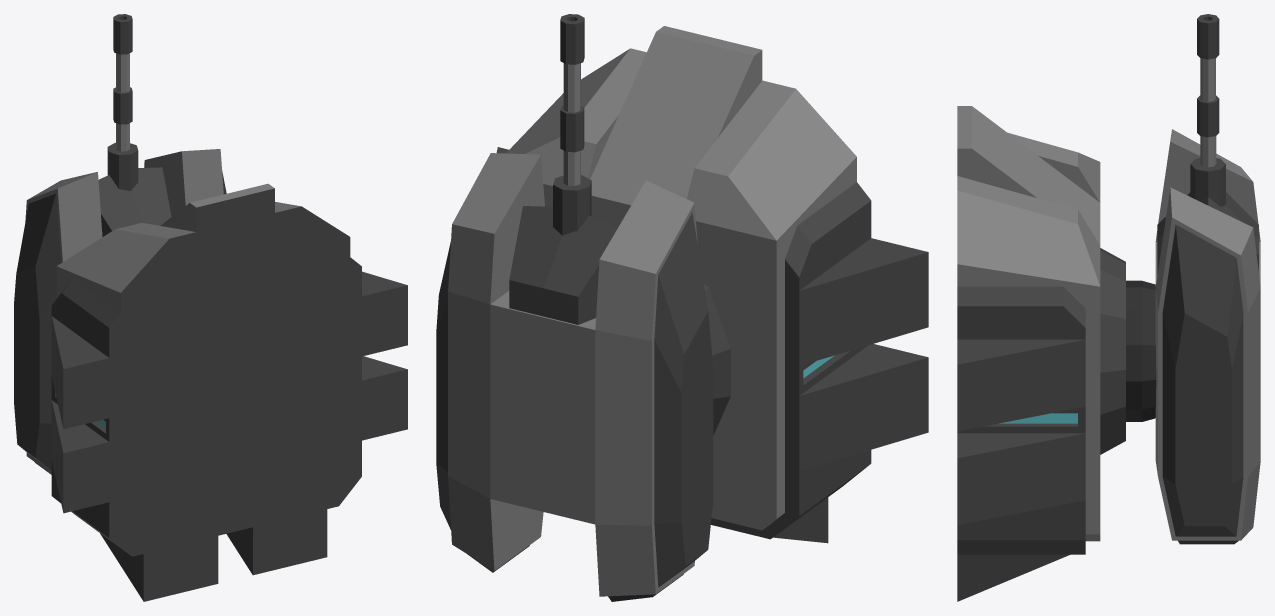
File: TurretMesh.fbx
The picture shows the model from 3 angles, left to right: view 1: azimuth 30°, elevation 25°; view 2: azimuth 150°, elevation 25°; view 3: azimuth 270°, elevation 25°; orthographic projection. The views are drawn at different scales.
Parts seen in each view (by area): view 1: TurrateBase.003, TurretGunChassis.003, TurretGun.003; view 2: TurrateBase.003, TurretGunChassis.003, TurretGun.003; view 3: TurrateBase.003, TurretGunChassis.003, TurretGun.003, TurrateGunRotator.003.
Boxes of the visible parts, x1=… form: TurrateBase.003: x1=51, y1=183, x2=407, y2=601; TurretGunChassis.003: x1=14, y1=149, x2=226, y2=474; TurretGun.003: x1=98, y1=14, x2=171, y2=236; TurrateBase.003: x1=496, y1=26, x2=928, y2=543; TurretGunChassis.003: x1=436, y1=153, x2=713, y2=601; TurretGun.003: x1=509, y1=14, x2=617, y2=324; TurrateBase.003: x1=957, y1=106, x2=1125, y2=601; TurretGunChassis.003: x1=1155, y1=129, x2=1260, y2=544; TurretGun.003: x1=1157, y1=14, x2=1258, y2=274; TurrateGunRotator.003: x1=1126, y1=280, x2=1156, y2=421.
Size of the model in its own units: 3 by 3.99 by 2.06.
